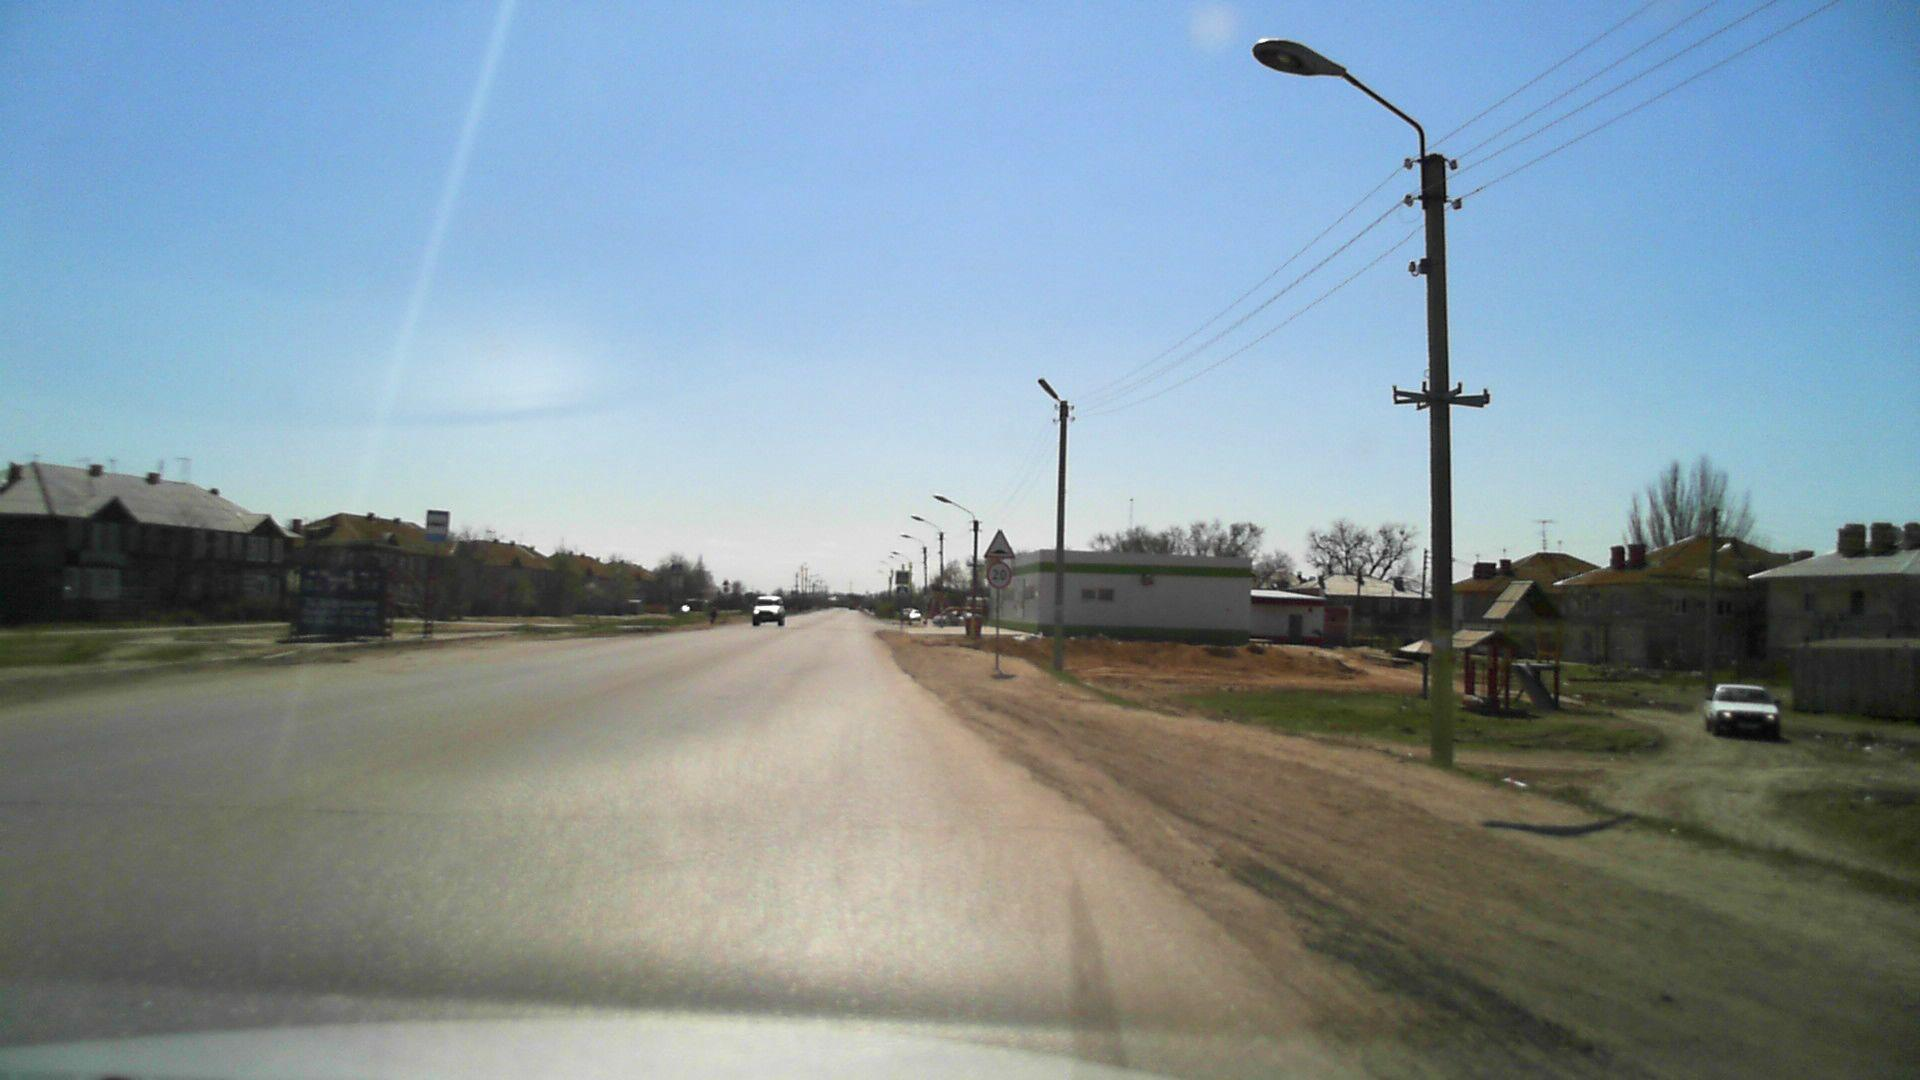1_17: (985, 530, 1014, 558)
3_24: (986, 559, 1013, 589)
5_16: (426, 509, 450, 541)
5_19_1: (895, 571, 909, 585)
5_19_2: (671, 563, 683, 576)
5_20: (897, 585, 909, 599)
